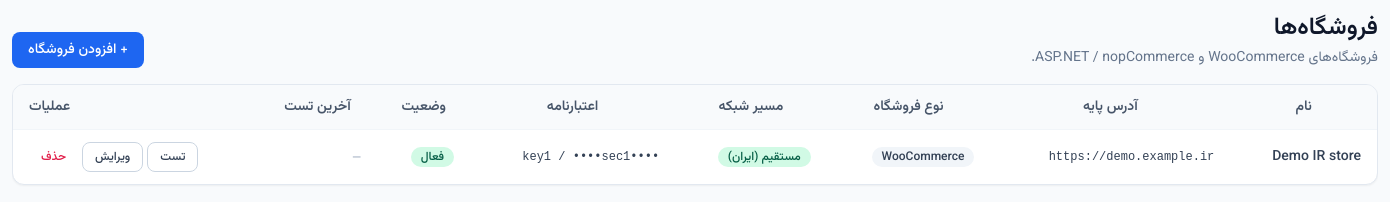
Test: Sites list › shows a failure result when the test fails
Click the button "تست" at (173, 157), box [147,142,198,172]
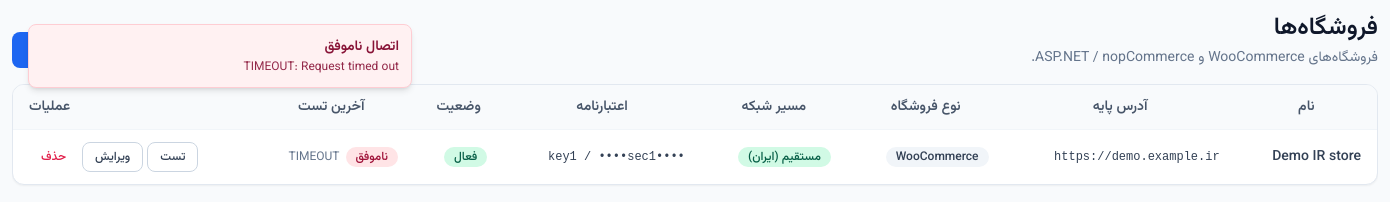
Expected: the text "ناموفق" is shown, [346,147,398,167]
Expected: the text "TIMEOUT" is shown, [289,149,340,165]
